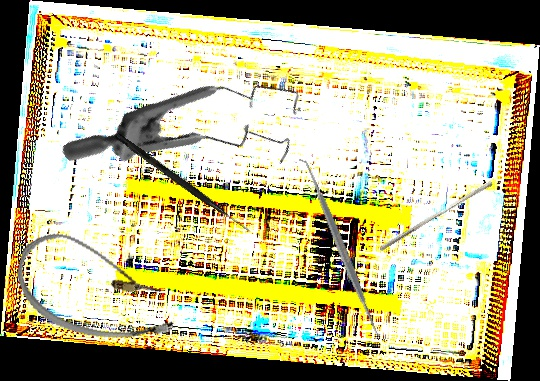Cannula: (6, 225, 189, 355)
Hook Surgical: (113, 132, 253, 234)
Pusher: (378, 176, 494, 256)
Spatula Surgical: (294, 153, 387, 341)
Speculum: (59, 8, 327, 267)
